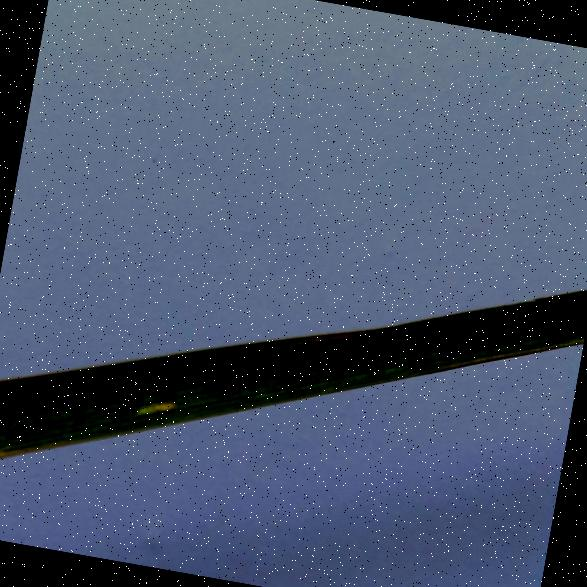Leaf_smut: (130, 391, 176, 419)
